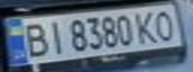0: (115, 12, 136, 47)
3: (84, 15, 103, 51)
8: (66, 16, 87, 52), (100, 12, 121, 48)
B: (18, 20, 51, 57)
I: (42, 18, 69, 55)
K: (133, 9, 160, 44)
O: (148, 7, 178, 42)
